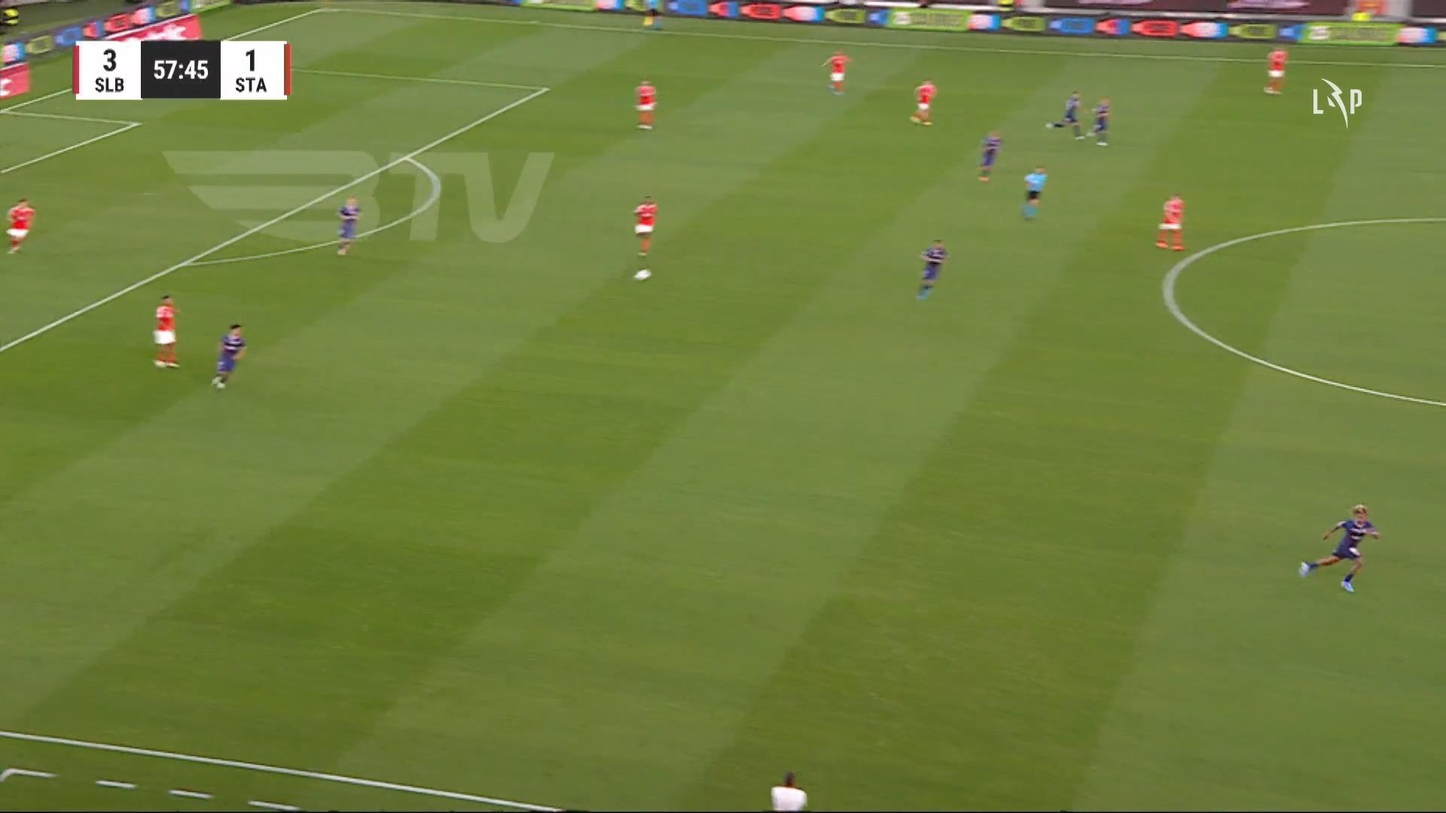ball: (633, 268, 651, 281)
player: (1298, 502, 1380, 592), (210, 322, 246, 390), (152, 294, 181, 368), (915, 237, 948, 300), (1045, 90, 1084, 139), (5, 196, 35, 254), (1155, 193, 1185, 251), (632, 194, 657, 257), (335, 196, 361, 256), (820, 49, 851, 94), (977, 129, 1003, 181), (909, 78, 937, 126), (633, 78, 657, 129), (1088, 96, 1112, 146), (1264, 47, 1287, 95)
referee: (1022, 164, 1048, 219)
